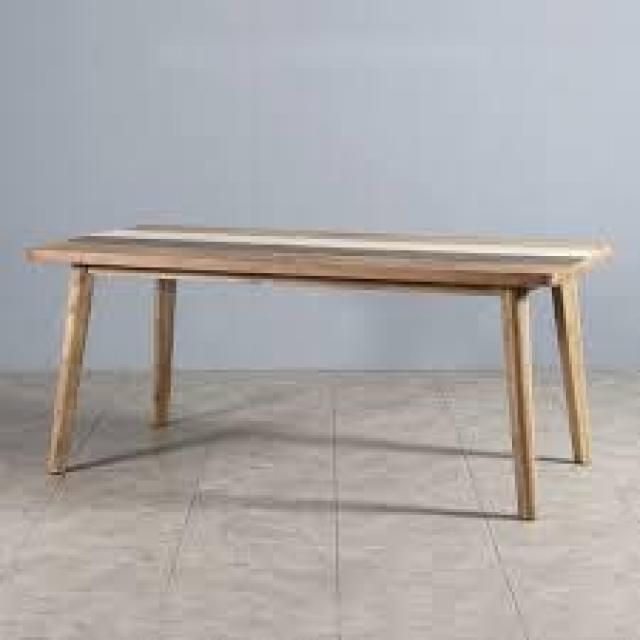table: (10, 140, 624, 540)
